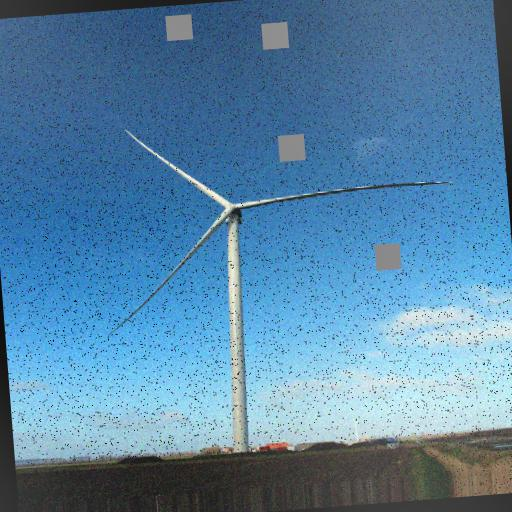wind turbine: (107, 126, 453, 451)
